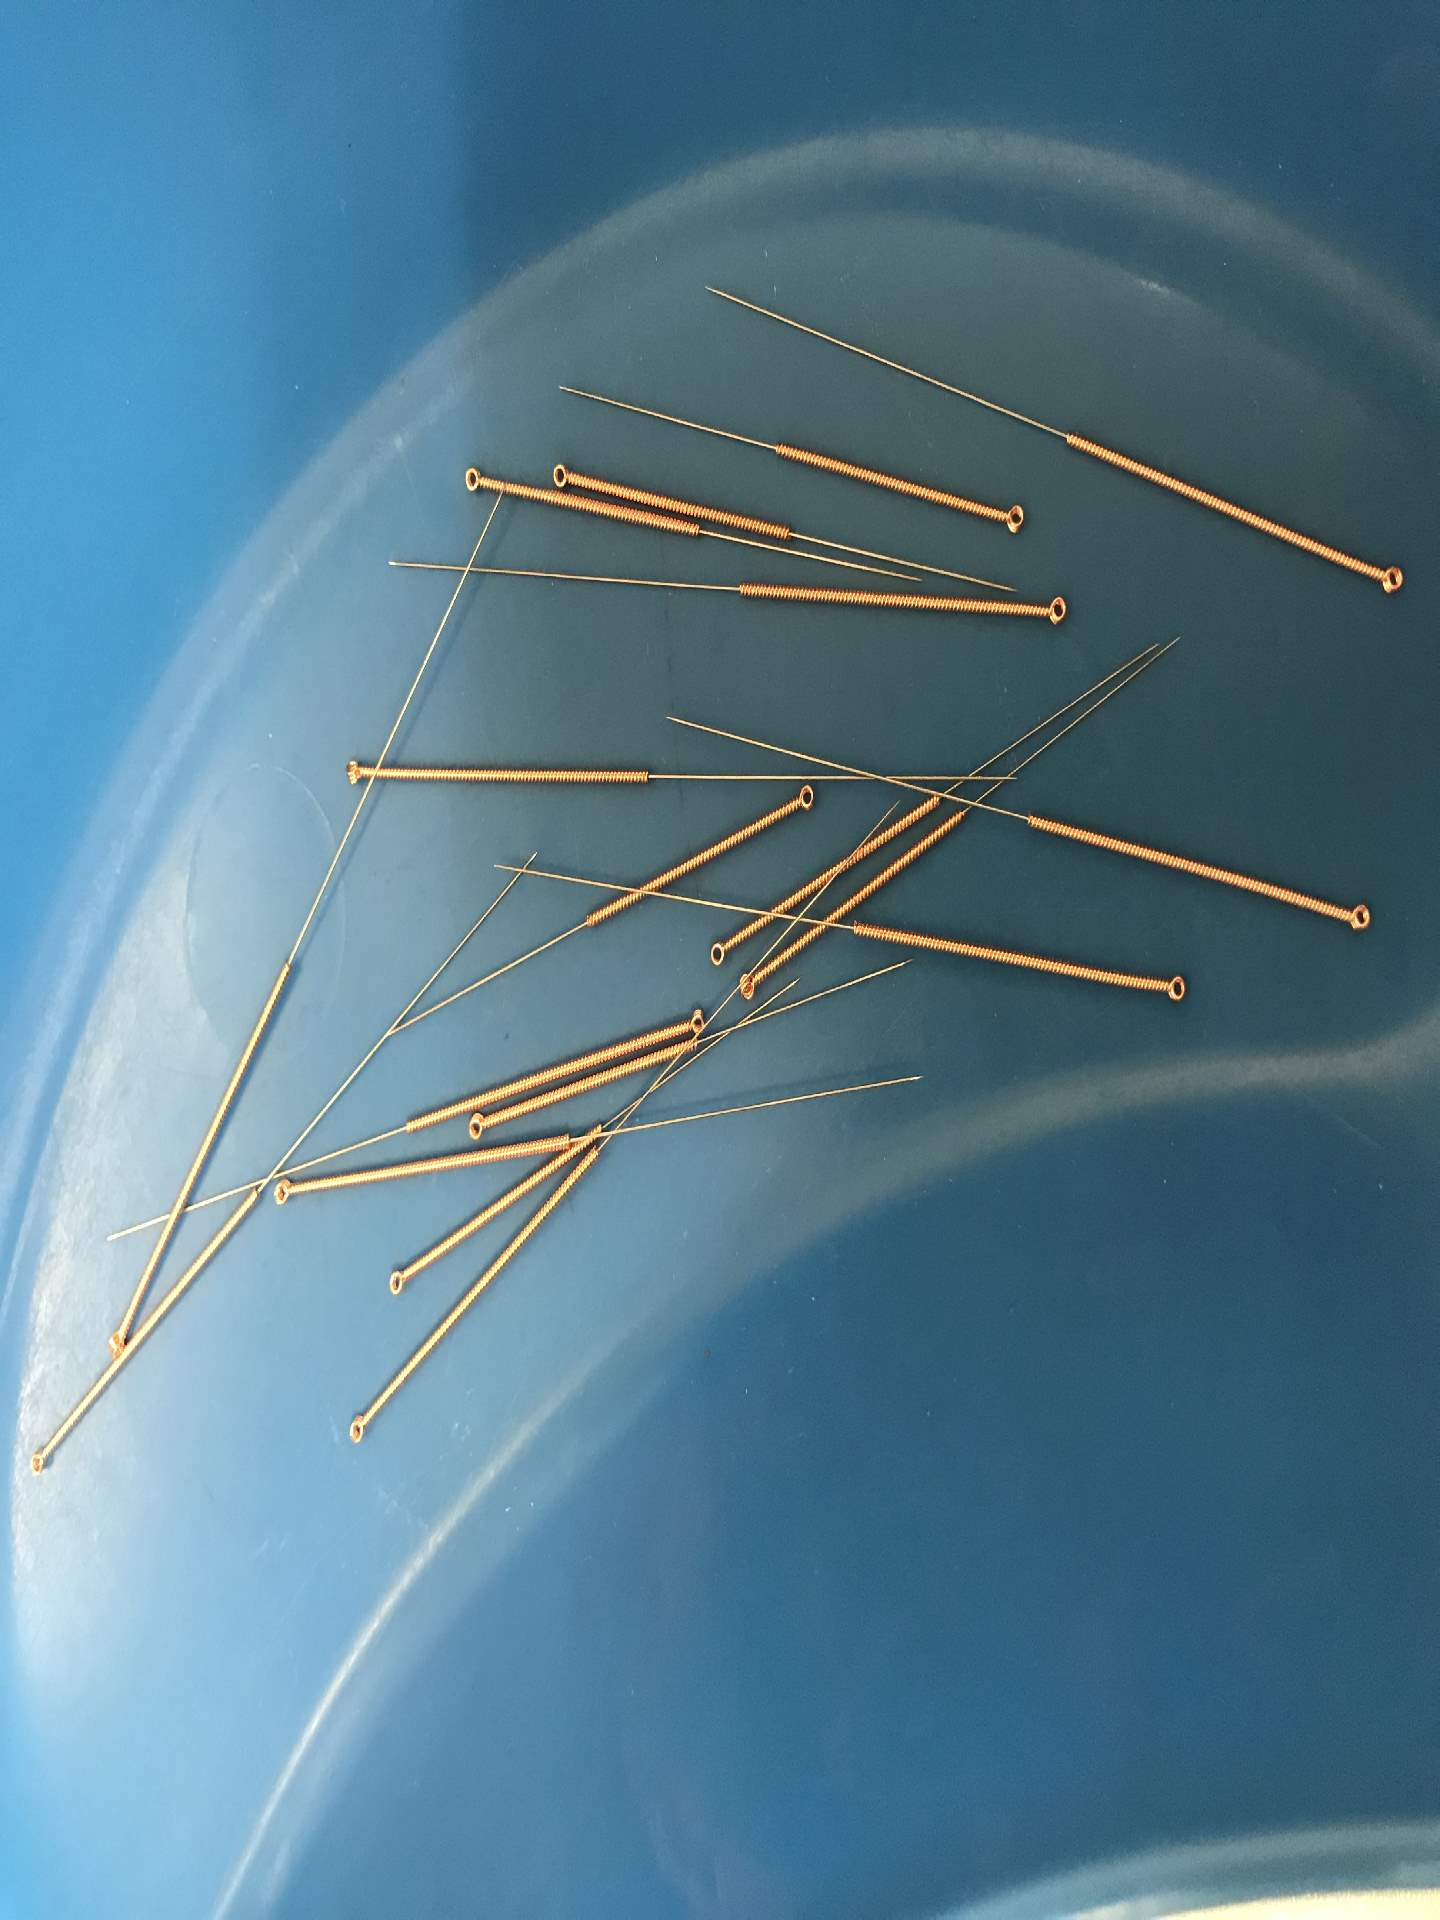needle: (989, 496, 1032, 543), (1370, 556, 1413, 602), (1337, 898, 1379, 939), (1035, 590, 1074, 633), (1157, 966, 1193, 1011), (452, 457, 492, 497), (340, 1409, 374, 1454), (100, 1311, 129, 1361), (790, 779, 824, 819), (732, 968, 767, 1005), (381, 1262, 414, 1302), (337, 753, 371, 791), (23, 1438, 54, 1476), (546, 457, 576, 496), (703, 934, 734, 974), (269, 1176, 301, 1211), (461, 1108, 492, 1144), (682, 1004, 709, 1039)
